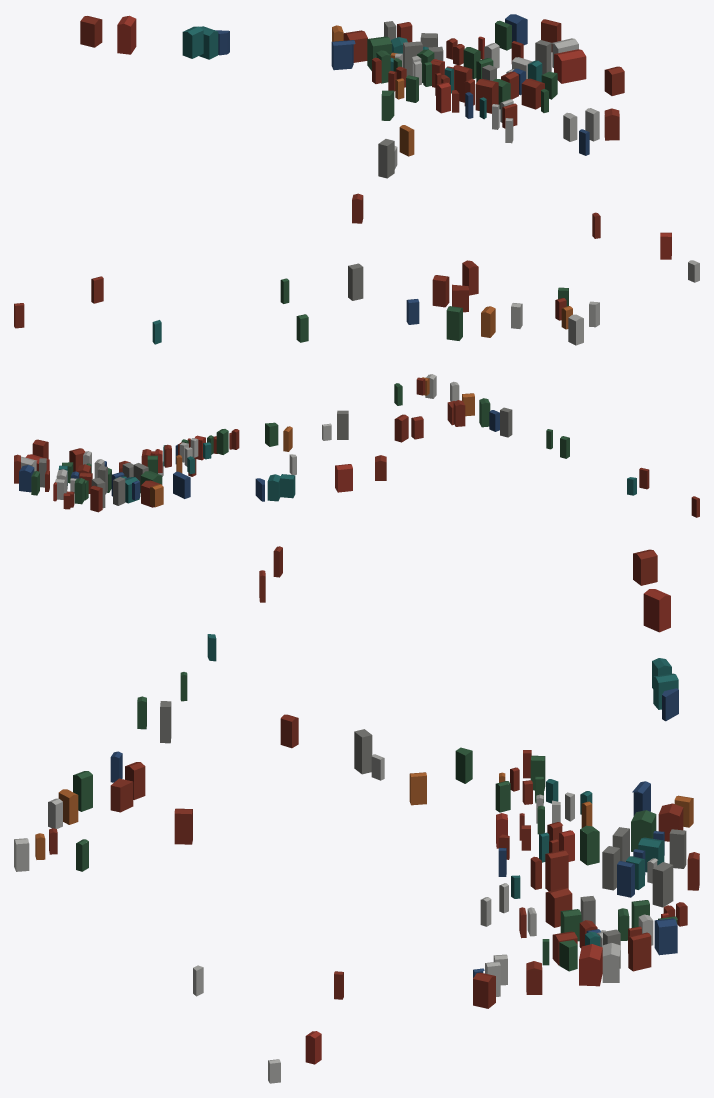
File: near-16-54721-29745.5e5b2a46.glb
3 views of the same model, one above another, from view 1: azimuth 30°, elevation 25°; view 2: azimuth 150°, elevation 25°; view 3: azimuth 270°, elevation 25° (orthographic). The views are drawn at different scales.
Bounding box in the file's own units: 584 × 194 × 424.
